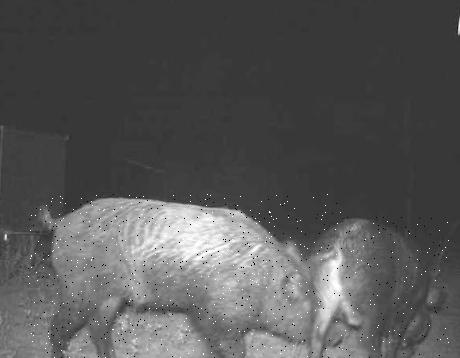Hog: (28, 194, 343, 358), (299, 216, 450, 358)
